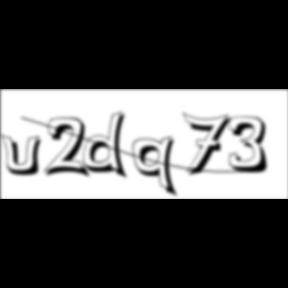2: (44, 117, 94, 181)
3: (229, 116, 275, 176)
7: (182, 111, 237, 179)
d: (83, 110, 133, 182)
q: (132, 135, 181, 200)
u: (0, 132, 48, 178)
